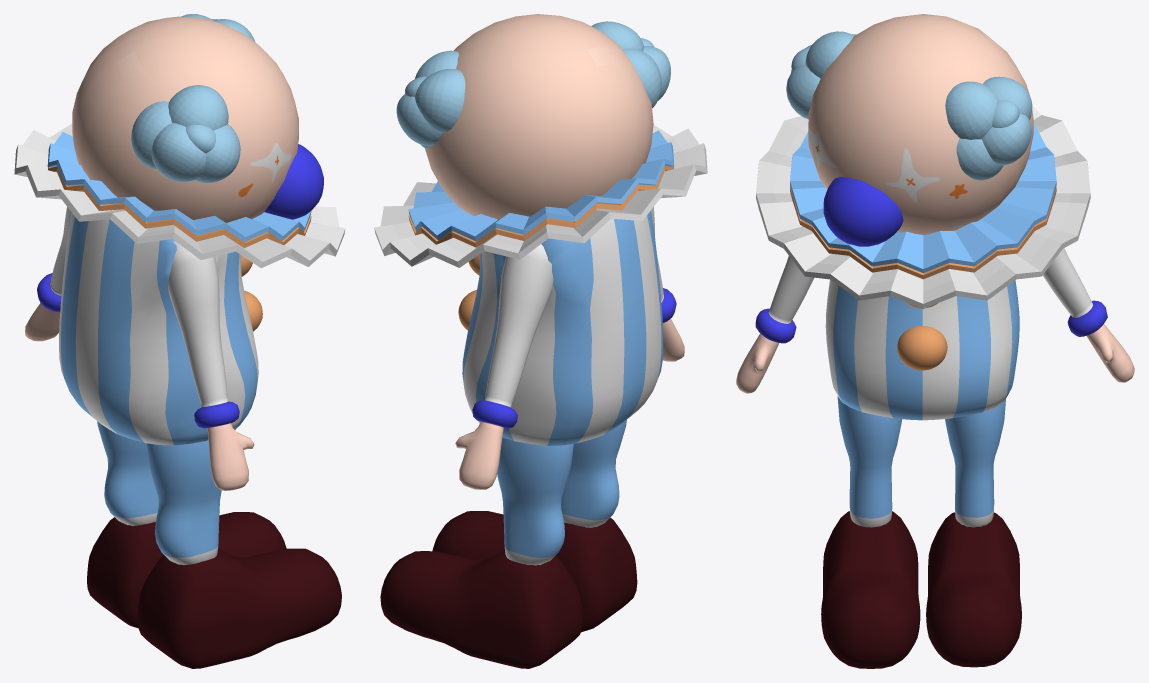
File: Blue_lose.fbx
3 views of the same model, side by side, from view 1: azimuth 30°, elevation 25°; view 2: azimuth 150°, elevation 25°; view 3: azimuth 270°, elevation 25° (orthographic).
Parts seen in each view (by area): view 1: Legs.001, Body.001, head, Arms.001, Circle, Sphere.006, Circle.002, Sphere.003, Arms.002, Circle.001; view 2: Legs.001, head, Body.001, Arms.002, Circle, Circle.002, Sphere.009, Sphere.006, Circle.001, Arms.001; view 3: Legs.001, head, Body.001, Circle, Circle.002, Sphere.009, Sphere.003, Arms.002, Arms.001, Sphere.006, Circle.001, Sphere.005.
Part boxes in pixels (x1,y1,x2,y2): Legs.001: (87, 421, 341, 668); Body.001: (59, 209, 258, 445); head: (72, 16, 298, 222); Arms.001: (168, 241, 254, 490); Circle: (14, 124, 345, 268); Sphere.006: (131, 85, 240, 182); Circle.002: (47, 132, 311, 241); Sphere.003: (264, 144, 323, 219); Arms.002: (25, 207, 70, 341); Circle.001: (48, 166, 311, 248); Legs.001: (380, 420, 637, 668); head: (425, 14, 653, 219); Body.001: (462, 208, 663, 445); Arms.002: (455, 240, 553, 489); Circle: (374, 125, 707, 267); Circle.002: (408, 130, 674, 241); Sphere.009: (396, 50, 465, 149); Sphere.006: (591, 21, 670, 108); Circle.001: (408, 165, 673, 247); Arms.001: (652, 207, 684, 361); Legs.001: (821, 396, 1021, 668); head: (808, 14, 1033, 234); Body.001: (825, 279, 1019, 420); Circle: (756, 106, 1090, 308); Circle.002: (790, 123, 1056, 273); Sphere.009: (945, 76, 1032, 180); Sphere.003: (823, 177, 903, 246); Arms.002: (1042, 248, 1134, 382); Arms.001: (736, 255, 813, 393); Sphere.006: (786, 31, 856, 119); Circle.001: (790, 186, 1056, 279); Sphere.005: (897, 326, 947, 370).
Bounding box in the file's own units: 194 × 393 × 238.
